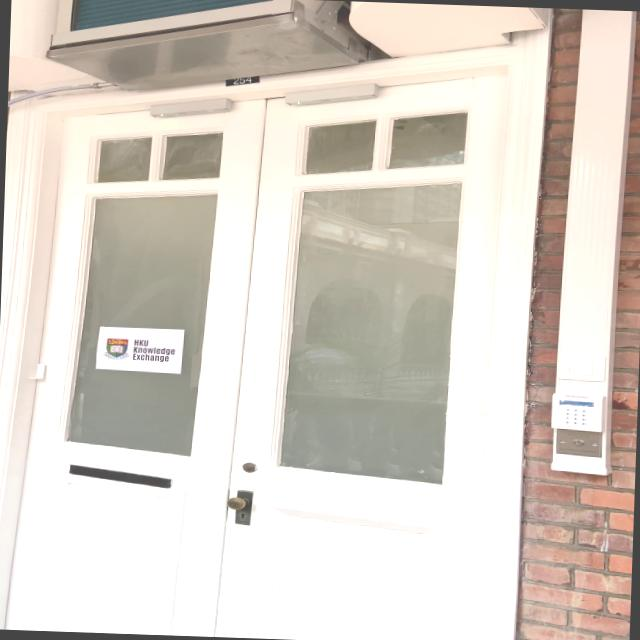room254: (220, 74, 262, 88)
